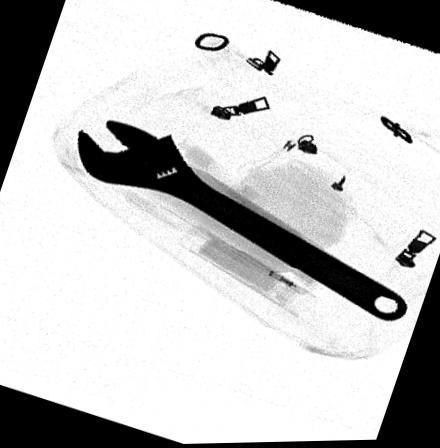Wrench: (75, 118, 407, 324)
